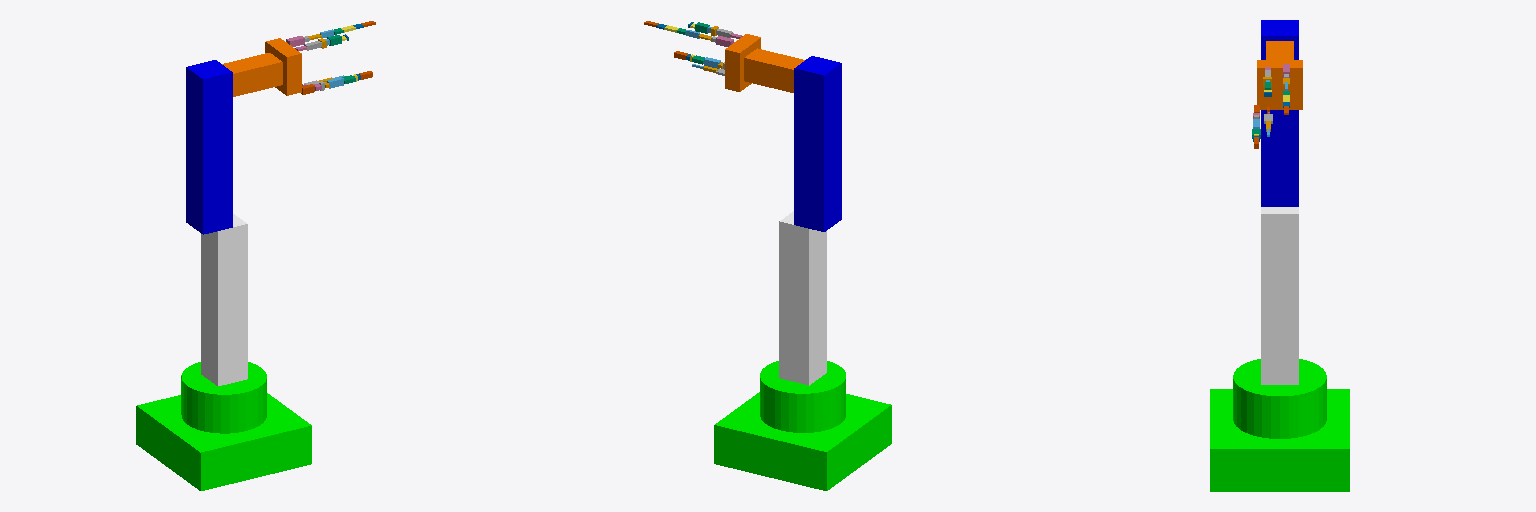
--- Facts derived from the render (not from the file) ---
3 views of the same robot in one strip: view 1: azimuth 30°, elevation 25°; view 2: azimuth 150°, elevation 25°; view 3: azimuth 270°, elevation 25° (orthographic).
Robot: robot — 34 links, 33 joints (30 revolute, 1 continuous, 2 fixed); root link base_link; default pose: all joints at 0.
Visible links, largest first — view 1: base_link, arm_link, support_link, wrist_link, palm_link; view 2: base_link, arm_link, support_link, wrist_link, palm_link; view 3: base_link, support_link, arm_link, palm_link, wrist_link.
Link boxes in pixels (x1,y1,x2,y2): base_link: (136, 362, 311, 490); arm_link: (186, 60, 232, 234); support_link: (201, 214, 247, 385); wrist_link: (222, 53, 282, 96); palm_link: (265, 38, 301, 95); base_link: (714, 361, 891, 490); arm_link: (794, 56, 841, 231); support_link: (779, 211, 826, 385); wrist_link: (744, 48, 804, 92); palm_link: (725, 34, 760, 91); base_link: (1210, 359, 1349, 491); support_link: (1261, 207, 1298, 384); arm_link: (1261, 20, 1298, 206); palm_link: (1257, 60, 1302, 109); wrist_link: (1266, 41, 1293, 59).
Size in the robot's own frame: 1.41 by 0.75 by 2.55 metres.
Geometry: primitives only (box / cylinder / sphere), no mesh files.

URDF robot description (robot):
<?xml version='1.0' encoding='utf-8'?>
<robot name="robot">
  <link name="base_link">
    <visual>
      <origin xyz="0 0 0.125" rpy="0 0 0" />
      <geometry>
        <box size="0.75 0.75 0.25" />
      </geometry>
      <material name="green" />
    </visual>
    <visual>
      <origin xyz="0 0 0.375" rpy="0 0 0" />
      <geometry>
        <cylinder length="0.25" radius="0.25" />
      </geometry>
      <material name="green">
        <color rgba="0 1 0 1" />
      </material>
    </visual>
    <collision>
      <geometry>
        <box size="0.75 0.75 0.5" />
      </geometry>
    </collision>
    <inertial>
      <mass value="0.5" />
      <inertia ixx="0.034" ixy="0.0" ixz="0.0" iyy="0.034" iyz="0.0" izz="0.034" />
    </inertial>
  </link>
  <link name="support_link">
    <visual>
      <origin xyz="0 0 0.5" rpy="0 0 0" />
      <geometry>
        <box size="0.2 0.2 1" />
      </geometry>
      <material name="white">
        <color rgba="1 1 1 1" />
      </material>
    </visual>
    <collision>
      <geometry>
        <box size="0.2 0.2 1" />
      </geometry>
    </collision>
    <inertial>
      <mass value="0.1" />
      <inertia ixx="0.01" ixy="0.0" ixz="0.0" iyy="0.01" iyz="0.0" izz="0.01" />
    </inertial>
  </link>
  <joint name="support_joint" type="continuous">
    <origin xyz="0 0 0.5" rpy="0 0 0" />
    <parent link="base_link" />
    <child link="support_link" />
    <axis xyz="0 0 1" />
  </joint>
  <link name="arm_link">
    <visual>
      <origin xyz="0 0 0.5" rpy="0 0 0" />
      <geometry>
        <box size="0.2 0.2 1" />
      </geometry>
      <material name="blue">
        <color rgba="0 0 1 1" />
      </material>
    </visual>
    <collision>
      <geometry>
        <box size="0.2 0.2 1" />
      </geometry>
    </collision>
    <inertial>
      <mass value="0.1" />
      <inertia ixx="0.01" ixy="0.0" ixz="0.0" iyy="0.01" iyz="0.0" izz="0.01" />
    </inertial>
  </link>
  <joint name="arm_joint" type="revolute">
    <origin xyz="-0.1 0 1" rpy="0 0 0" />
    <parent link="support_link" />
    <child link="arm_link" />
    <axis xyz="0 1 0" />
    <limit lower="-3.14" upper="3.14" effort="1.0" velocity="1.0" />
  </joint>
  <link name="wrist_link">
    <visual>
      <origin xyz="0 0 0.25" rpy="0 0 0" />
      <geometry>
        <box size="0.15 0.15 0.5" />
      </geometry>
      <material name="orange">
        <color rgba="1 0.5 0 1" />
      </material>
    </visual>
    <collision>
      <geometry>
        <box size="0.15 0.15 0.5" />
      </geometry>
    </collision>
    <inertial>
      <mass value="0.1" />
      <inertia ixx="0.01" ixy="0.0" ixz="0.0" iyy="0.01" iyz="0.0" izz="0.01" />
    </inertial>
  </link>
  <joint name="wrist_joint" type="fixed">
    <origin xyz="0 0 0.9" rpy="0 1.571 0" />
    <parent link="arm_link" />
    <child link="wrist_link" />
  </joint>
  <link name="palm_link">
    <visual>
      <origin xyz="0 0 0.05" rpy="0 0 0" />
      <geometry>
        <box size="0.25 0.25 0.1" />
      </geometry>
      <material name="orange" />
    </visual>
    <collision>
      <geometry>
        <box size="0.25 0.25 0.1" />
      </geometry>
    </collision>
    <inertial>
      <mass value="0.1" />
      <inertia ixx="0.01" ixy="0.0" ixz="0.0" iyy="0.01" iyz="0.0" izz="0.01" />
    </inertial>
  </link>
  <joint name="palm_joint" type="fixed">
    <origin xyz="0 0 0.45" rpy="0 0 0" />
    <parent link="wrist_link" />
    <child link="palm_link" />
  </joint>
  <link name="finger_link_0_0">
    <visual>
      <origin xyz="0 0 0.041" rpy="0 0 0" />
      <geometry>
        <box size="0.041 0.032 0.082" />
      </geometry>
    </visual>
    <collision>
      <geometry>
        <box size="0.041 0.032 0.082" />
      </geometry>
    </collision>
    <inertial>
      <mass value="0.032" />
      <inertia ixx="0.0" iyy="0.0" izz="0.0" ixy="0" ixz="0" iyz="0" />
    </inertial>
  </link>
  <joint name="finger_joint_palm_link_to_finger_link_0_0" type="revolute">
    <origin xyz="0.116 -0.125 0.1" rpy="0 0 0" />
    <parent link="palm_link" />
    <child link="finger_link_0_0" />
    <axis xyz="1.0 0.0 0.0" />
    <limit lower="-3.142" upper="3.142" effort="10" velocity="10" />
  </joint>
  <link name="finger_link_0_1">
    <visual>
      <origin xyz="0 0 0.0205" rpy="0 0 0" />
      <geometry>
        <box size="0.025 0.042 0.041" />
      </geometry>
    </visual>
    <collision>
      <geometry>
        <box size="0.025 0.042 0.041" />
      </geometry>
    </collision>
    <inertial>
      <mass value="0.013" />
      <inertia ixx="0.0" iyy="0.0" izz="0.0" ixy="0" ixz="0" iyz="0" />
    </inertial>
  </link>
  <joint name="finger_joint_finger_link_0_0_to_finger_link_0_1" type="revolute">
    <origin xyz="0.0 0.0 0.082" rpy="0 0 0" />
    <parent link="finger_link_0_0" />
    <child link="finger_link_0_1" />
    <axis xyz="0.0 1.0 0.0" />
    <limit lower="-3.142" upper="3.142" effort="10" velocity="10" />
  </joint>
  <link name="finger_link_0_2">
    <visual>
      <origin xyz="0 0 0.013" rpy="0 0 0" />
      <geometry>
        <box size="0.047 0.028 0.026" />
      </geometry>
    </visual>
    <collision>
      <geometry>
        <box size="0.047 0.028 0.026" />
      </geometry>
    </collision>
    <inertial>
      <mass value="0.01" />
      <inertia ixx="0.0" iyy="0.0" izz="0.0" ixy="0" ixz="0" iyz="0" />
    </inertial>
  </link>
  <joint name="finger_joint_finger_link_0_1_to_finger_link_0_2" type="revolute">
    <origin xyz="0.0 0.0 0.041" rpy="0 0 0" />
    <parent link="finger_link_0_1" />
    <child link="finger_link_0_2" />
    <axis xyz="0.0 1.0 0.0" />
    <limit lower="-3.142" upper="3.142" effort="10" velocity="10" />
  </joint>
  <link name="finger_link_0_3">
    <visual>
      <origin xyz="0 0 0.014" rpy="0 0 0" />
      <geometry>
        <box size="0.02 0.041 0.028" />
      </geometry>
    </visual>
    <collision>
      <geometry>
        <box size="0.02 0.041 0.028" />
      </geometry>
    </collision>
    <inertial>
      <mass value="0.007" />
      <inertia ixx="0.0" iyy="0.0" izz="0.0" ixy="0" ixz="0" iyz="0" />
    </inertial>
  </link>
  <joint name="finger_joint_finger_link_0_2_to_finger_link_0_3" type="revolute">
    <origin xyz="0.0 0.0 0.026" rpy="0 0 0" />
    <parent link="finger_link_0_2" />
    <child link="finger_link_0_3" />
    <axis xyz="1.0 1.0 0.0" />
    <limit lower="-3.142" upper="3.142" effort="10" velocity="10" />
  </joint>
  <link name="finger_link_0_4">
    <visual>
      <origin xyz="0 0 0.0495" rpy="0 0 0" />
      <geometry>
        <box size="0.042 0.033 0.099" />
      </geometry>
    </visual>
    <collision>
      <geometry>
        <box size="0.042 0.033 0.099" />
      </geometry>
    </collision>
    <inertial>
      <mass value="0.041" />
      <inertia ixx="0.0" iyy="0.0" izz="0.0" ixy="0" ixz="0" iyz="0" />
    </inertial>
  </link>
  <joint name="finger_joint_finger_link_0_3_to_finger_link_0_4" type="revolute">
    <origin xyz="0.0 0.0 0.028" rpy="0 0 0" />
    <parent link="finger_link_0_3" />
    <child link="finger_link_0_4" />
    <axis xyz="1.0 0.0 0.0" />
    <limit lower="-3.142" upper="3.142" effort="10" velocity="10" />
  </joint>
  <link name="finger_link_0_5">
    <visual>
      <origin xyz="0 0 0.037" rpy="0 0 0" />
      <geometry>
        <box size="0.024 0.049 0.074" />
      </geometry>
    </visual>
    <collision>
      <geometry>
        <box size="0.024 0.049 0.074" />
      </geometry>
    </collision>
    <inertial>
      <mass value="0.026" />
      <inertia ixx="0.0" iyy="0.0" izz="0.0" ixy="0" ixz="0" iyz="0" />
    </inertial>
  </link>
  <joint name="finger_joint_finger_link_0_4_to_finger_link_0_5" type="revolute">
    <origin xyz="0.0 0.0 0.099" rpy="0 0 0" />
    <parent link="finger_link_0_4" />
    <child link="finger_link_0_5" />
    <axis xyz="1.0 0.0 0.0" />
    <limit lower="-3.142" upper="3.142" effort="10" velocity="10" />
  </joint>
  <link name="finger_link_0_6">
    <visual>
      <origin xyz="0 0 0.0095" rpy="0 0 0" />
      <geometry>
        <box size="0.035 0.026 0.019" />
      </geometry>
    </visual>
    <collision>
      <geometry>
        <box size="0.035 0.026 0.019" />
      </geometry>
    </collision>
    <inertial>
      <mass value="0.005" />
      <inertia ixx="0.0" iyy="0.0" izz="0.0" ixy="0" ixz="0" iyz="0" />
    </inertial>
  </link>
  <joint name="finger_joint_finger_link_0_5_to_finger_link_0_6" type="revolute">
    <origin xyz="0.0 0.0 0.074" rpy="0 0 0" />
    <parent link="finger_link_0_5" />
    <child link="finger_link_0_6" />
    <axis xyz="1.0 0.0 0.0" />
    <limit lower="-3.142" upper="3.142" effort="10" velocity="10" />
  </joint>
  <link name="finger_link_0_7">
    <visual>
      <origin xyz="0 0 0.011" rpy="0 0 0" />
      <geometry>
        <box size="0.025 0.034 0.022" />
      </geometry>
    </visual>
    <collision>
      <geometry>
        <box size="0.025 0.034 0.022" />
      </geometry>
    </collision>
    <inertial>
      <mass value="0.006" />
      <inertia ixx="0.0" iyy="0.0" izz="0.0" ixy="0" ixz="0" iyz="0" />
    </inertial>
  </link>
  <joint name="finger_joint_finger_link_0_6_to_finger_link_0_7" type="revolute">
    <origin xyz="0.0 0.0 0.019" rpy="0 0 0" />
    <parent link="finger_link_0_6" />
    <child link="finger_link_0_7" />
    <axis xyz="0.0 1.0 0.0" />
    <limit lower="-3.142" upper="3.142" effort="10" velocity="10" />
  </joint>
  <link name="finger_link_0_8">
    <visual>
      <origin xyz="0 0 0.0415" rpy="0 0 0" />
      <geometry>
        <box size="0.03 0.031 0.083" />
      </geometry>
    </visual>
    <collision>
      <geometry>
        <box size="0.03 0.031 0.083" />
      </geometry>
    </collision>
    <inertial>
      <mass value="0.023" />
      <inertia ixx="0.0" iyy="0.0" izz="0.0" ixy="0" ixz="0" iyz="0" />
    </inertial>
  </link>
  <joint name="finger_joint_finger_link_0_7_to_finger_link_0_8" type="revolute">
    <origin xyz="0.0 0.0 0.022" rpy="0 0 0" />
    <parent link="finger_link_0_7" />
    <child link="finger_link_0_8" />
    <axis xyz="0.0 1.0 0.0" />
    <limit lower="-3.142" upper="3.142" effort="10" velocity="10" />
  </joint>
  <link name="finger_link_1_0">
    <visual>
      <origin xyz="0 0 0.05" rpy="0 0 0" />
      <geometry>
        <box size="0.041 0.04 0.1" />
      </geometry>
    </visual>
    <collision>
      <geometry>
        <box size="0.041 0.04 0.1" />
      </geometry>
    </collision>
    <inertial>
      <mass value="0.049" />
      <inertia ixx="0.0" iyy="0.0" izz="0.0" ixy="0" ixz="0" iyz="0" />
    </inertial>
  </link>
  <joint name="finger_joint_palm_link_to_finger_link_1_0" type="revolute">
    <origin xyz="-0.125 0.035 0.1" rpy="0 0 0" />
    <parent link="palm_link" />
    <child link="finger_link_1_0" />
    <axis xyz="0.0 -1.0 0.0" />
    <limit lower="-3.142" upper="3.142" effort="10" velocity="10" />
  </joint>
  <link name="finger_link_1_1">
    <visual>
      <origin xyz="0 0 0.019" rpy="0 0 0" />
      <geometry>
        <box size="0.022 0.029 0.038" />
      </geometry>
    </visual>
    <collision>
      <geometry>
        <box size="0.022 0.029 0.038" />
      </geometry>
    </collision>
    <inertial>
      <mass value="0.007" />
      <inertia ixx="0.0" iyy="0.0" izz="0.0" ixy="0" ixz="0" iyz="0" />
    </inertial>
  </link>
  <joint name="finger_joint_finger_link_1_0_to_finger_link_1_1" type="revolute">
    <origin xyz="0.0 0.0 0.1" rpy="0 0 0" />
    <parent link="finger_link_1_0" />
    <child link="finger_link_1_1" />
    <axis xyz="0.0 1.0 0.0" />
    <limit lower="-3.142" upper="3.142" effort="10" velocity="10" />
  </joint>
  <link name="finger_link_1_2">
    <visual>
      <origin xyz="0 0 0.041" rpy="0 0 0" />
      <geometry>
        <box size="0.011 0.035 0.082" />
      </geometry>
    </visual>
    <collision>
      <geometry>
        <box size="0.011 0.035 0.082" />
      </geometry>
    </collision>
    <inertial>
      <mass value="0.009" />
      <inertia ixx="0.0" iyy="0.0" izz="0.0" ixy="0" ixz="0" iyz="0" />
    </inertial>
  </link>
  <joint name="finger_joint_finger_link_1_1_to_finger_link_1_2" type="revolute">
    <origin xyz="0.0 0.0 0.038" rpy="0 0 0" />
    <parent link="finger_link_1_1" />
    <child link="finger_link_1_2" />
    <axis xyz="0.0 1.0 0.0" />
    <limit lower="-3.142" upper="3.142" effort="10" velocity="10" />
  </joint>
  <link name="finger_link_1_3">
    <visual>
      <origin xyz="0 0 0.0425" rpy="0 0 0" />
      <geometry>
        <box size="0.034 0.017 0.085" />
      </geometry>
    </visual>
    <collision>
      <geometry>
        <box size="0.034 0.017 0.085" />
      </geometry>
    </collision>
    <inertial>
      <mass value="0.015" />
      <inertia ixx="0.0" iyy="0.0" izz="0.0" ixy="0" ixz="0" iyz="0" />
    </inertial>
  </link>
  <joint name="finger_joint_finger_link_1_2_to_finger_link_1_3" type="revolute">
    <origin xyz="0.0 0.0 0.082" rpy="0 0 0" />
    <parent link="finger_link_1_2" />
    <child link="finger_link_1_3" />
    <axis xyz="0.0 1.0 0.0" />
    <limit lower="-3.142" upper="3.142" effort="10" velocity="10" />
  </joint>
  <link name="finger_link_1_4">
    <visual>
      <origin xyz="0 0 0.029" rpy="0 0 0" />
      <geometry>
        <box size="0.016 0.039 0.058" />
      </geometry>
    </visual>
    <collision>
      <geometry>
        <box size="0.016 0.039 0.058" />
      </geometry>
    </collision>
    <inertial>
      <mass value="0.011" />
      <inertia ixx="0.0" iyy="0.0" izz="0.0" ixy="0" ixz="0" iyz="0" />
    </inertial>
  </link>
  <joint name="finger_joint_finger_link_1_3_to_finger_link_1_4" type="revolute">
    <origin xyz="0.0 0.0 0.085" rpy="0 0 0" />
    <parent link="finger_link_1_3" />
    <child link="finger_link_1_4" />
    <axis xyz="1.0 0.0 0.0" />
    <limit lower="-3.142" upper="3.142" effort="10" velocity="10" />
  </joint>
  <link name="finger_link_1_5">
    <visual>
      <origin xyz="0 0 0.0405" rpy="0 0 0" />
      <geometry>
        <box size="0.015 0.037 0.081" />
      </geometry>
    </visual>
    <collision>
      <geometry>
        <box size="0.015 0.037 0.081" />
      </geometry>
    </collision>
    <inertial>
      <mass value="0.013" />
      <inertia ixx="0.0" iyy="0.0" izz="0.0" ixy="0" ixz="0" iyz="0" />
    </inertial>
  </link>
  <joint name="finger_joint_finger_link_1_4_to_finger_link_1_5" type="revolute">
    <origin xyz="0.0 0.0 0.058" rpy="0 0 0" />
    <parent link="finger_link_1_4" />
    <child link="finger_link_1_5" />
    <axis xyz="0.0 1.0 0.0" />
    <limit lower="-3.142" upper="3.142" effort="10" velocity="10" />
  </joint>
  <link name="finger_link_1_6">
    <visual>
      <origin xyz="0 0 0.0265" rpy="0 0 0" />
      <geometry>
        <box size="0.011 0.041 0.053" />
      </geometry>
    </visual>
    <collision>
      <geometry>
        <box size="0.011 0.041 0.053" />
      </geometry>
    </collision>
    <inertial>
      <mass value="0.007" />
      <inertia ixx="0.0" iyy="0.0" izz="0.0" ixy="0" ixz="0" iyz="0" />
    </inertial>
  </link>
  <joint name="finger_joint_finger_link_1_5_to_finger_link_1_6" type="revolute">
    <origin xyz="0.0 0.0 0.081" rpy="0 0 0" />
    <parent link="finger_link_1_5" />
    <child link="finger_link_1_6" />
    <axis xyz="0.0 1.0 0.0" />
    <limit lower="-3.142" upper="3.142" effort="10" velocity="10" />
  </joint>
  <link name="finger_link_1_7">
    <visual>
      <origin xyz="0 0 0.042" rpy="0 0 0" />
      <geometry>
        <box size="0.014 0.031 0.084" />
      </geometry>
    </visual>
    <collision>
      <geometry>
        <box size="0.014 0.031 0.084" />
      </geometry>
    </collision>
    <inertial>
      <mass value="0.011" />
      <inertia ixx="0.0" iyy="0.0" izz="0.0" ixy="0" ixz="0" iyz="0" />
    </inertial>
  </link>
  <joint name="finger_joint_finger_link_1_6_to_finger_link_1_7" type="revolute">
    <origin xyz="0.0 0.0 0.053" rpy="0 0 0" />
    <parent link="finger_link_1_6" />
    <child link="finger_link_1_7" />
    <axis xyz="0.0 1.0 0.0" />
    <limit lower="-3.142" upper="3.142" effort="10" velocity="10" />
  </joint>
  <link name="finger_link_2_0">
    <visual>
      <origin xyz="0 0 0.0315" rpy="0 0 0" />
      <geometry>
        <box size="0.013 0.031 0.063" />
      </geometry>
    </visual>
    <collision>
      <geometry>
        <box size="0.013 0.031 0.063" />
      </geometry>
    </collision>
    <inertial>
      <mass value="0.008" />
      <inertia ixx="0.0" iyy="0.0" izz="0.0" ixy="0" ixz="0" iyz="0" />
    </inertial>
  </link>
  <joint name="finger_joint_palm_link_to_finger_link_2_0" type="revolute">
    <origin xyz="-0.125 -0.064 0.1" rpy="0 0 0" />
    <parent link="palm_link" />
    <child link="finger_link_2_0" />
    <axis xyz="0.0 -1.0 0.0" />
    <limit lower="-3.142" upper="3.142" effort="10" velocity="10" />
  </joint>
  <link name="finger_link_2_1">
    <visual>
      <origin xyz="0 0 0.049" rpy="0 0 0" />
      <geometry>
        <box size="0.03 0.032 0.098" />
      </geometry>
    </visual>
    <collision>
      <geometry>
        <box size="0.03 0.032 0.098" />
      </geometry>
    </collision>
    <inertial>
      <mass value="0.028" />
      <inertia ixx="0.0" iyy="0.0" izz="0.0" ixy="0" ixz="0" iyz="0" />
    </inertial>
  </link>
  <joint name="finger_joint_finger_link_2_0_to_finger_link_2_1" type="revolute">
    <origin xyz="0.0 0.0 0.063" rpy="0 0 0" />
    <parent link="finger_link_2_0" />
    <child link="finger_link_2_1" />
    <axis xyz="0.0 1.0 0.0" />
    <limit lower="-3.142" upper="3.142" effort="10" velocity="10" />
  </joint>
  <link name="finger_link_2_2">
    <visual>
      <origin xyz="0 0 0.014" rpy="0 0 0" />
      <geometry>
        <box size="0.044 0.048 0.028" />
      </geometry>
    </visual>
    <collision>
      <geometry>
        <box size="0.044 0.048 0.028" />
      </geometry>
    </collision>
    <inertial>
      <mass value="0.018" />
      <inertia ixx="0.0" iyy="0.0" izz="0.0" ixy="0" ixz="0" iyz="0" />
    </inertial>
  </link>
  <joint name="finger_joint_finger_link_2_1_to_finger_link_2_2" type="revolute">
    <origin xyz="0.0 0.0 0.098" rpy="0 0 0" />
    <parent link="finger_link_2_1" />
    <child link="finger_link_2_2" />
    <axis xyz="1.0 0.0 0.0" />
    <limit lower="-3.142" upper="3.142" effort="10" velocity="10" />
  </joint>
  <link name="finger_link_2_3">
    <visual>
      <origin xyz="0 0 0.015" rpy="0 0 0" />
      <geometry>
        <box size="0.032 0.021 0.03" />
      </geometry>
    </visual>
    <collision>
      <geometry>
        <box size="0.032 0.021 0.03" />
      </geometry>
    </collision>
    <inertial>
      <mass value="0.006" />
      <inertia ixx="0.0" iyy="0.0" izz="0.0" ixy="0" ixz="0" iyz="0" />
    </inertial>
  </link>
  <joint name="finger_joint_finger_link_2_2_to_finger_link_2_3" type="revolute">
    <origin xyz="0.0 0.0 0.028" rpy="0 0 0" />
    <parent link="finger_link_2_2" />
    <child link="finger_link_2_3" />
    <axis xyz="0.0 1.0 0.0" />
    <limit lower="-3.142" upper="3.142" effort="10" velocity="10" />
  </joint>
  <link name="finger_link_2_4">
    <visual>
      <origin xyz="0 0 0.0385" rpy="0 0 0" />
      <geometry>
        <box size="0.043 0.036 0.077" />
      </geometry>
    </visual>
    <collision>
      <geometry>
        <box size="0.043 0.036 0.077" />
      </geometry>
    </collision>
    <inertial>
      <mass value="0.036" />
      <inertia ixx="0.0" iyy="0.0" izz="0.0" ixy="0" ixz="0" iyz="0" />
    </inertial>
  </link>
  <joint name="finger_joint_finger_link_2_3_to_finger_link_2_4" type="revolute">
    <origin xyz="0.0 0.0 0.03" rpy="0 0 0" />
    <parent link="finger_link_2_3" />
    <child link="finger_link_2_4" />
    <axis xyz="0.0 1.0 0.0" />
    <limit lower="-3.142" upper="3.142" effort="10" velocity="10" />
  </joint>
  <link name="finger_link_2_5">
    <visual>
      <origin xyz="0 0 0.0165" rpy="0 0 0" />
      <geometry>
        <box size="0.011 0.038 0.033" />
      </geometry>
    </visual>
    <collision>
      <geometry>
        <box size="0.011 0.038 0.033" />
      </geometry>
    </collision>
    <inertial>
      <mass value="0.004" />
      <inertia ixx="0.0" iyy="0.0" izz="0.0" ixy="0" ixz="0" iyz="0" />
    </inertial>
  </link>
  <joint name="finger_joint_finger_link_2_4_to_finger_link_2_5" type="revolute">
    <origin xyz="0.0 0.0 0.077" rpy="0 0 0" />
    <parent link="finger_link_2_4" />
    <child link="finger_link_2_5" />
    <axis xyz="1.0 0.0 0.0" />
    <limit lower="-3.142" upper="3.142" effort="10" velocity="10" />
  </joint>
  <link name="finger_link_2_6">
    <visual>
      <origin xyz="0 0 0.007" rpy="0 0 0" />
      <geometry>
        <box size="0.021 0.046 0.014" />
      </geometry>
    </visual>
    <collision>
      <geometry>
        <box size="0.021 0.046 0.014" />
      </geometry>
    </collision>
    <inertial>
      <mass value="0.004" />
      <inertia ixx="0.0" iyy="0.0" izz="0.0" ixy="0" ixz="0" iyz="0" />
    </inertial>
  </link>
  <joint name="finger_joint_finger_link_2_5_to_finger_link_2_6" type="revolute">
    <origin xyz="0.0 0.0 0.033" rpy="0 0 0" />
    <parent link="finger_link_2_5" />
    <child link="finger_link_2_6" />
    <axis xyz="0.0 1.0 0.0" />
    <limit lower="-3.142" upper="3.142" effort="10" velocity="10" />
  </joint>
  <link name="finger_link_3_0">
    <visual>
      <origin xyz="0 0 0.02" rpy="0 0 0" />
      <geometry>
        <box size="0.037 0.018 0.04" />
      </geometry>
    </visual>
    <collision>
      <geometry>
        <box size="0.037 0.018 0.04" />
      </geometry>
    </collision>
    <inertial>
      <mass value="0.008" />
      <inertia ixx="0.0" iyy="0.0" izz="0.0" ixy="0" ixz="0" iyz="0" />
    </inertial>
  </link>
  <joint name="finger_joint_palm_link_to_finger_link_3_0" type="revolute">
    <origin xyz="0.125 -0.061 0.1" rpy="0 0 0" />
    <parent link="palm_link" />
    <child link="finger_link_3_0" />
    <axis xyz="0.0 1.0 0.0" />
    <limit lower="-3.142" upper="3.142" effort="10" velocity="10" />
  </joint>
  <link name="finger_link_3_1">
    <visual>
      <origin xyz="0 0 0.0115" rpy="0 0 0" />
      <geometry>
        <box size="0.022 0.011 0.023" />
      </geometry>
    </visual>
    <collision>
      <geometry>
        <box size="0.022 0.011 0.023" />
      </geometry>
    </collision>
    <inertial>
      <mass value="0.002" />
      <inertia ixx="0.0" iyy="0.0" izz="0.0" ixy="0" ixz="0" iyz="0" />
    </inertial>
  </link>
  <joint name="finger_joint_finger_link_3_0_to_finger_link_3_1" type="revolute">
    <origin xyz="0.0 0.0 0.04" rpy="0 0 0" />
    <parent link="finger_link_3_0" />
    <child link="finger_link_3_1" />
    <axis xyz="1.0 0.0 0.0" />
    <limit lower="-3.142" upper="3.142" effort="10" velocity="10" />
  </joint>
  <link name="finger_link_3_2">
    <visual>
      <origin xyz="0 0 0.045" rpy="0 0 0" />
      <geometry>
        <box size="0.015 0.048 0.09" />
      </geometry>
    </visual>
    <collision>
      <geometry>
        <box size="0.015 0.048 0.09" />
      </geometry>
    </collision>
    <inertial>
      <mass value="0.019" />
      <inertia ixx="0.0" iyy="0.0" izz="0.0" ixy="0" ixz="0" iyz="0" />
    </inertial>
  </link>
  <joint name="finger_joint_finger_link_3_1_to_finger_link_3_2" type="revolute">
    <origin xyz="0.0 0.0 0.023" rpy="0 0 0" />
    <parent link="finger_link_3_1" />
    <child link="finger_link_3_2" />
    <axis xyz="0.0 1.0 0.0" />
    <limit lower="-3.142" upper="3.142" effort="10" velocity="10" />
  </joint>
  <link name="finger_link_3_3">
    <visual>
      <origin xyz="0 0 0.048" rpy="0 0 0" />
      <geometry>
        <box size="0.018 0.025 0.096" />
      </geometry>
    </visual>
    <collision>
      <geometry>
        <box size="0.018 0.025 0.096" />
      </geometry>
    </collision>
    <inertial>
      <mass value="0.013" />
      <inertia ixx="0.0" iyy="0.0" izz="0.0" ixy="0" ixz="0" iyz="0" />
    </inertial>
  </link>
  <joint name="finger_joint_finger_link_3_2_to_finger_link_3_3" type="revolute">
    <origin xyz="0.0 0.0 0.09" rpy="0 0 0" />
    <parent link="finger_link_3_2" />
    <child link="finger_link_3_3" />
    <axis xyz="0.0 1.0 0.0" />
    <limit lower="-3.142" upper="3.142" effort="10" velocity="10" />
  </joint>
  <link name="finger_link_3_4">
    <visual>
      <origin xyz="0 0 0.037" rpy="0 0 0" />
      <geometry>
        <box size="0.012 0.013 0.074" />
      </geometry>
    </visual>
    <collision>
      <geometry>
        <box size="0.012 0.013 0.074" />
      </geometry>
    </collision>
    <inertial>
      <mass value="0.003" />
      <inertia ixx="0.0" iyy="0.0" izz="0.0" ixy="0" ixz="0" iyz="0" />
    </inertial>
  </link>
  <joint name="finger_joint_finger_link_3_3_to_finger_link_3_4" type="revolute">
    <origin xyz="0.0 0.0 0.096" rpy="0 0 0" />
    <parent link="finger_link_3_3" />
    <child link="finger_link_3_4" />
    <axis xyz="0.0 1.0 0.0" />
    <limit lower="-3.142" upper="3.142" effort="10" velocity="10" />
  </joint>
</robot>
